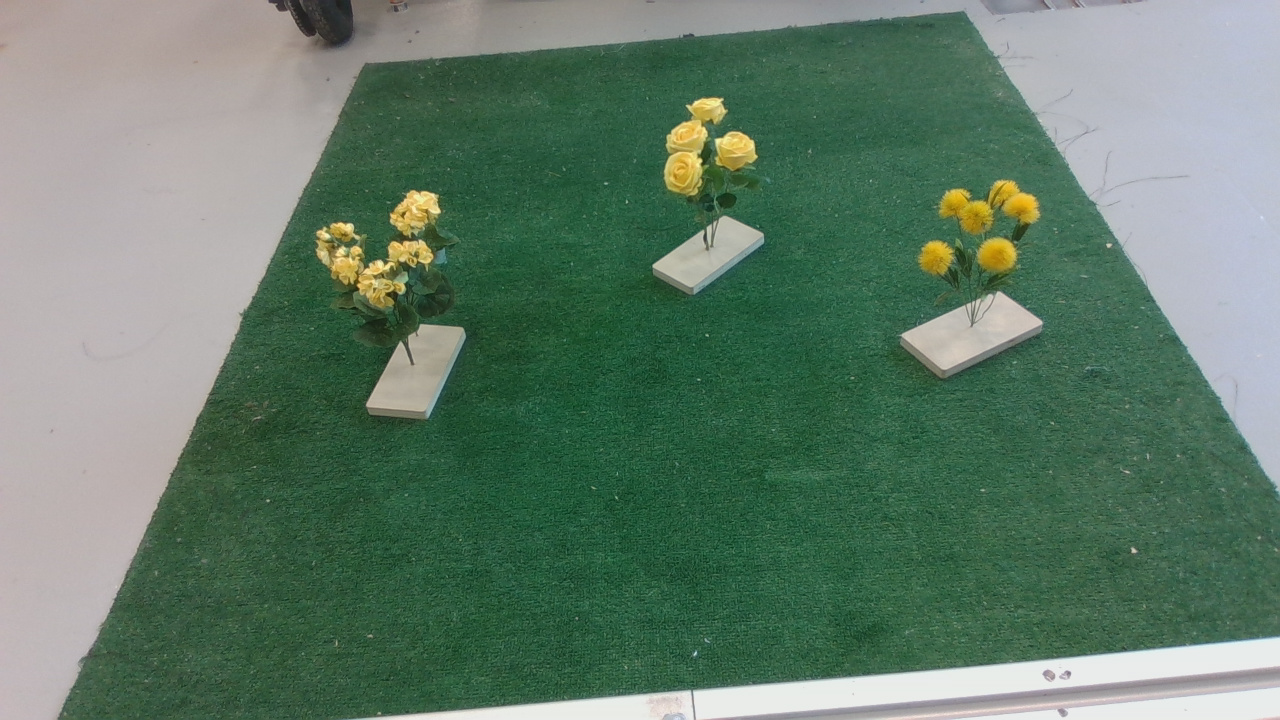dandelion: (924, 176, 1059, 305)
geranium: (319, 187, 466, 357)
rose: (666, 93, 774, 227)
